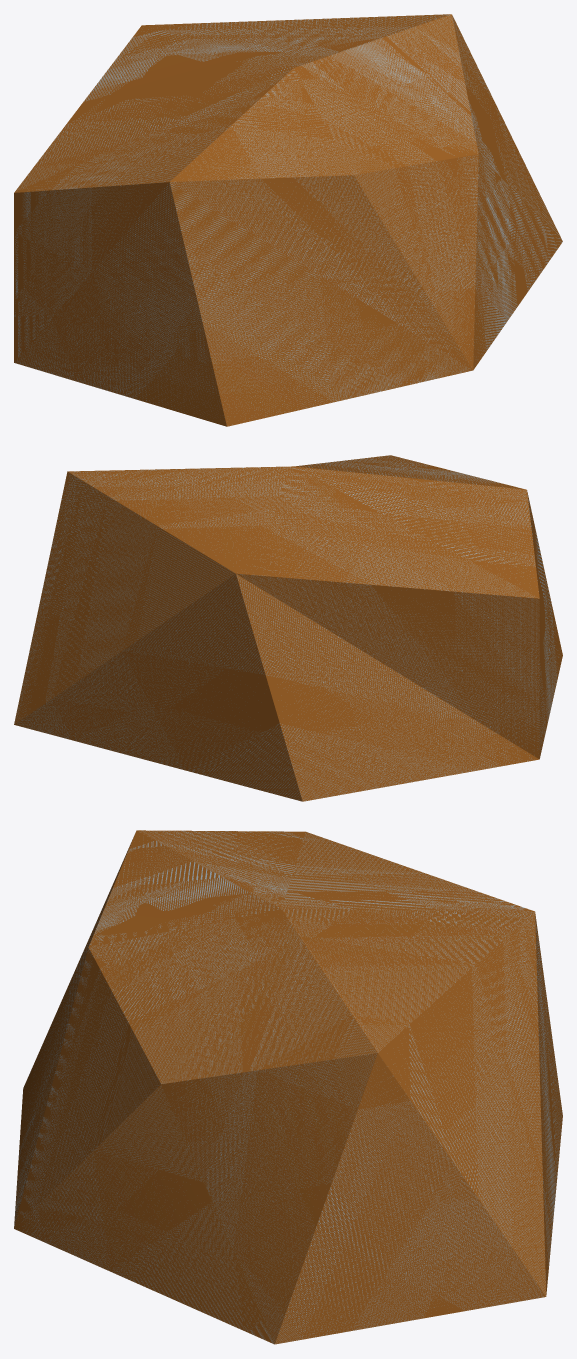
File: Rock_Small_Dirt_04.fbx
3 renders of one model, top to bottom at view 1: azimuth 30°, elevation 25°; view 2: azimuth 150°, elevation 25°; view 3: azimuth 270°, elevation 25°, orthographic. The views are drawn at different scales.
Visible parts, largest first — view 1: Model; view 2: Model; view 3: Model.
Part boxes in pixels (x1,y1,x2,y2): Model: (14, 14, 562, 426); Model: (14, 455, 562, 801); Model: (14, 830, 562, 1344).
Bounding box in the file's own units: 190 × 101 × 142.
